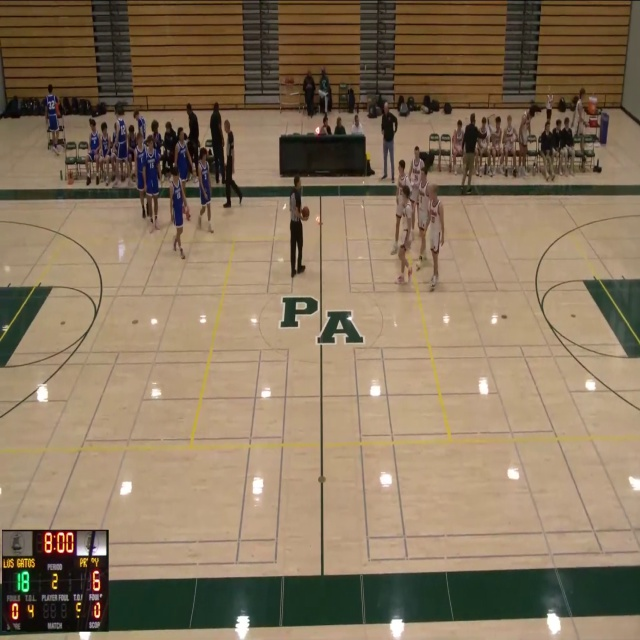Basketball: (300, 206, 310, 220)
